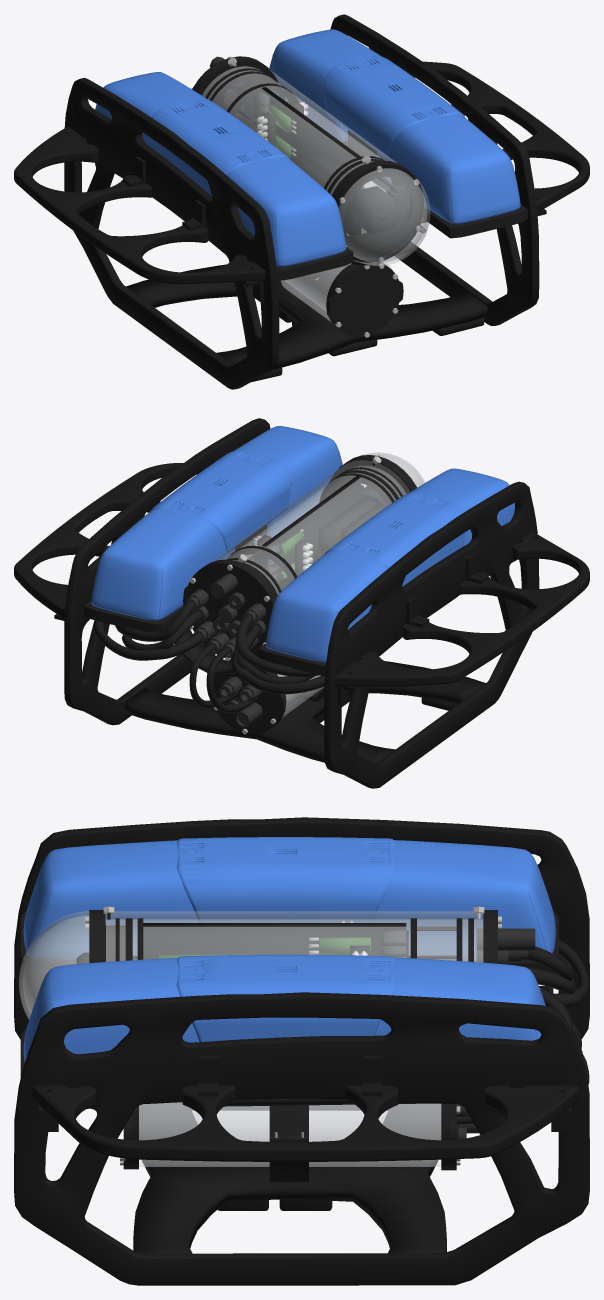
Rendered from bluerov2_heavy_chassis_visual.glb.
The picture shows the model from 3 angles, top to bottom: view 1: azimuth 30°, elevation 25°; view 2: azimuth 150°, elevation 25°; view 3: azimuth 270°, elevation 25°; orthographic projection. The views are drawn at different scales.
Parts seen in each view (by area): view 1: bluerov2_heavy_chassis; view 2: bluerov2_heavy_chassis; view 3: bluerov2_heavy_chassis.
Part boxes in pixels (bbox=[...]): bluerov2_heavy_chassis: bbox=[14, 14, 589, 389]; bluerov2_heavy_chassis: bbox=[14, 418, 589, 788]; bluerov2_heavy_chassis: bbox=[14, 817, 589, 1285].
Bounding box in the file's own units: 0.5747 × 0.2546 × 0.4571.
5 materials, 1 textured.
